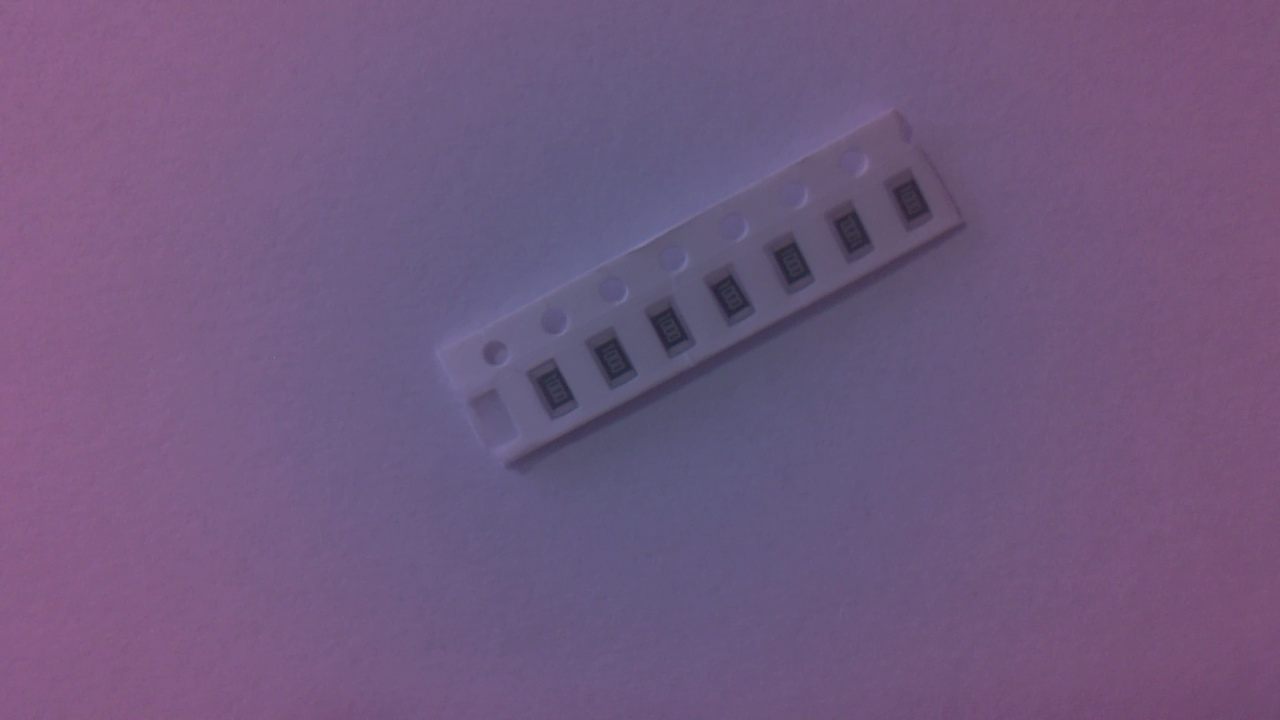Resistor: (647, 299, 703, 366), (769, 236, 825, 302), (829, 201, 884, 268), (708, 265, 765, 329), (529, 360, 585, 425), (588, 329, 643, 394), (887, 171, 942, 234)
